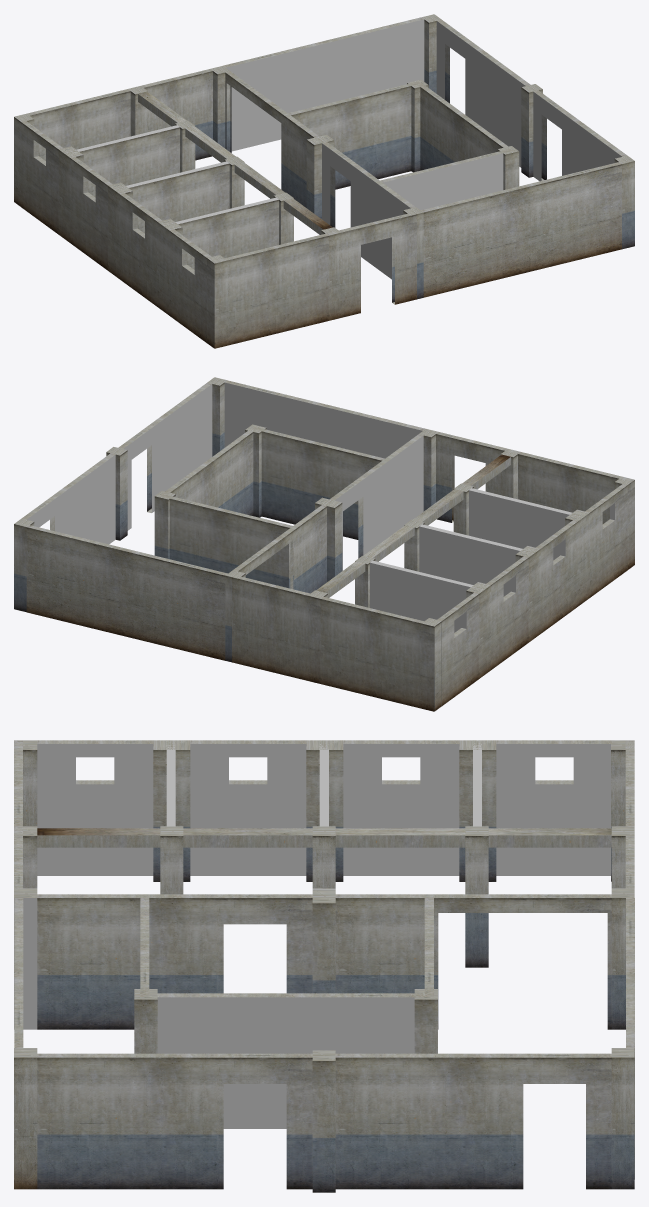
File: Prison Walls.FBX
3 views of the same model, one above another, from view 1: azimuth 30°, elevation 25°; view 2: azimuth 150°, elevation 25°; view 3: azimuth 270°, elevation 25° (orthographic). The views are drawn at different scales.
Parts seen in each view (by area): view 1: Prison Walls; view 2: Prison Walls; view 3: Prison Walls.
Boxes of the visible parts, bbox=[...] form: Prison Walls: bbox=[14, 14, 634, 348]; Prison Walls: bbox=[14, 377, 634, 711]; Prison Walls: bbox=[14, 740, 634, 1192].
Bounding box in the file's own units: 1505 × 288 × 1232.
